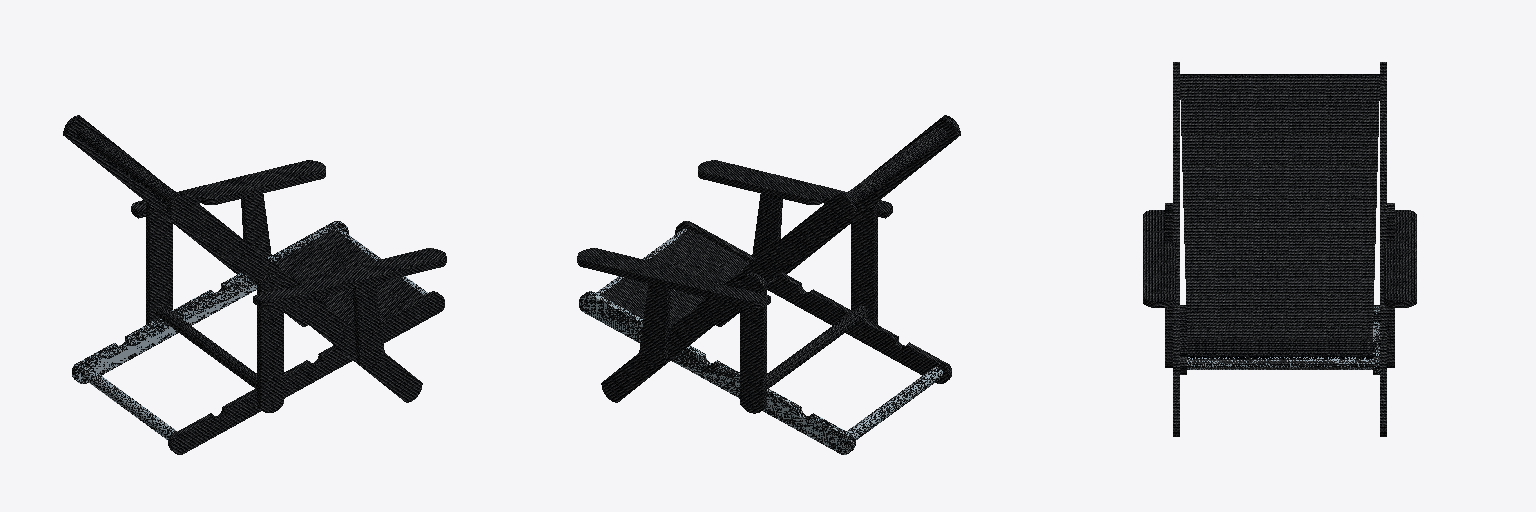
3 renders of one model, left to right at view 1: azimuth 30°, elevation 25°; view 2: azimuth 150°, elevation 25°; view 3: azimuth 270°, elevation 25°, orthographic.
Visible parts, largest first — view 1: Mesh1 Model, Mesh2 Model; view 2: Mesh1 Model, Mesh2 Model; view 3: Mesh1 Model.
Boxes of the visible parts, box(x1,y1,x2,y2) form: Mesh1 Model: box(63, 115, 446, 454); Mesh2 Model: box(81, 367, 177, 440); Mesh1 Model: box(577, 115, 960, 454); Mesh2 Model: box(846, 367, 942, 440); Mesh1 Model: box(1143, 62, 1416, 436).
Bounding box in the file's own units: 0.8837 × 0.8 × 0.75.
Materials: 4 (1 with a texture image).